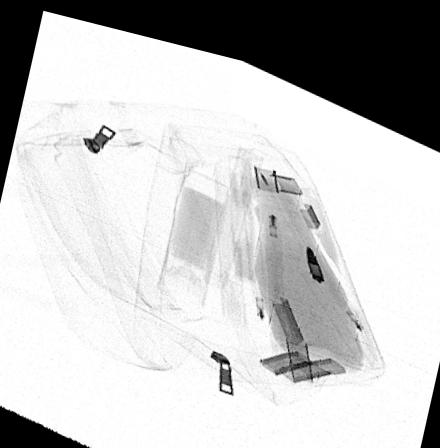Bullet: (305, 228, 325, 266)
